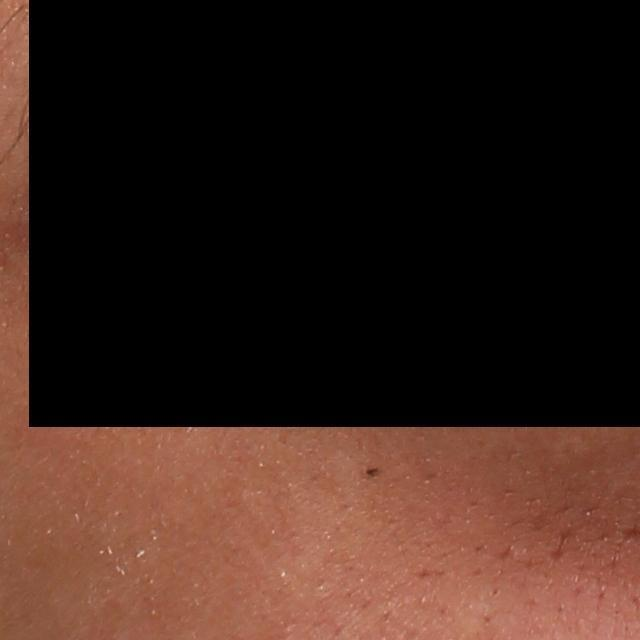nevus: (364, 467, 382, 477)
